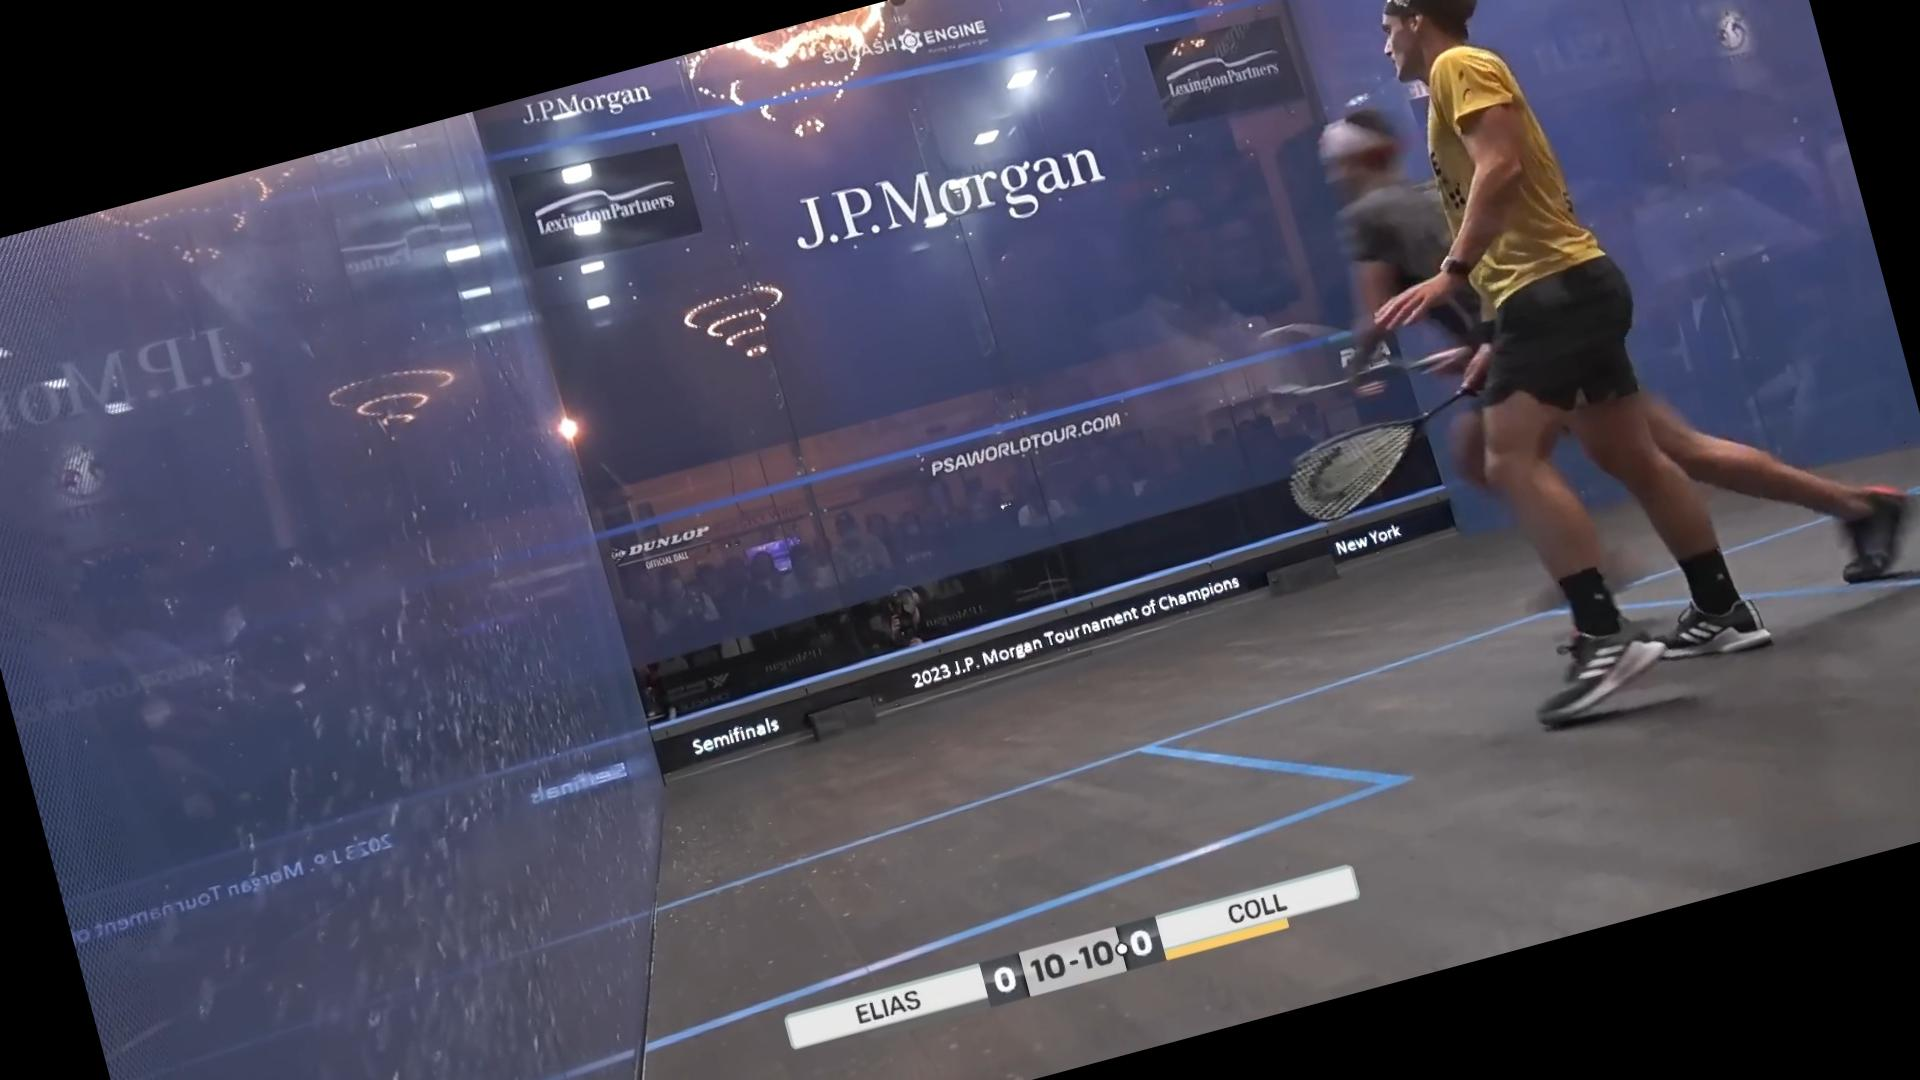Racket: (1273, 378, 1490, 541), (1237, 282, 1429, 417)
